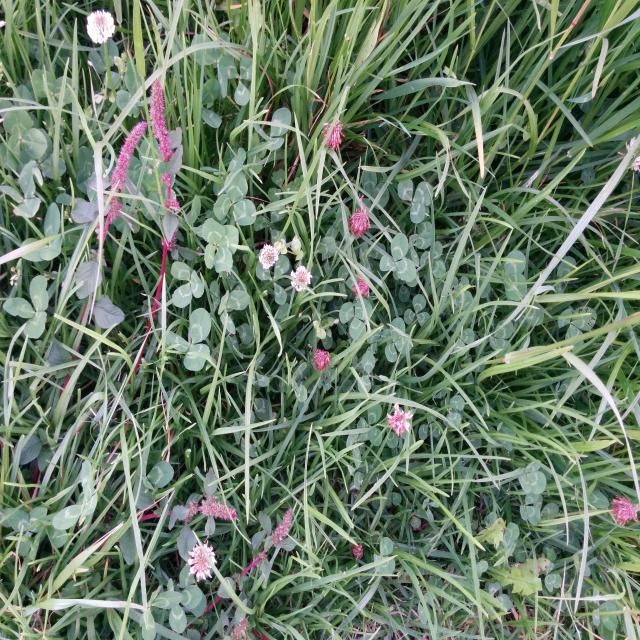Four Leaf Clover: (202, 218, 239, 272)
